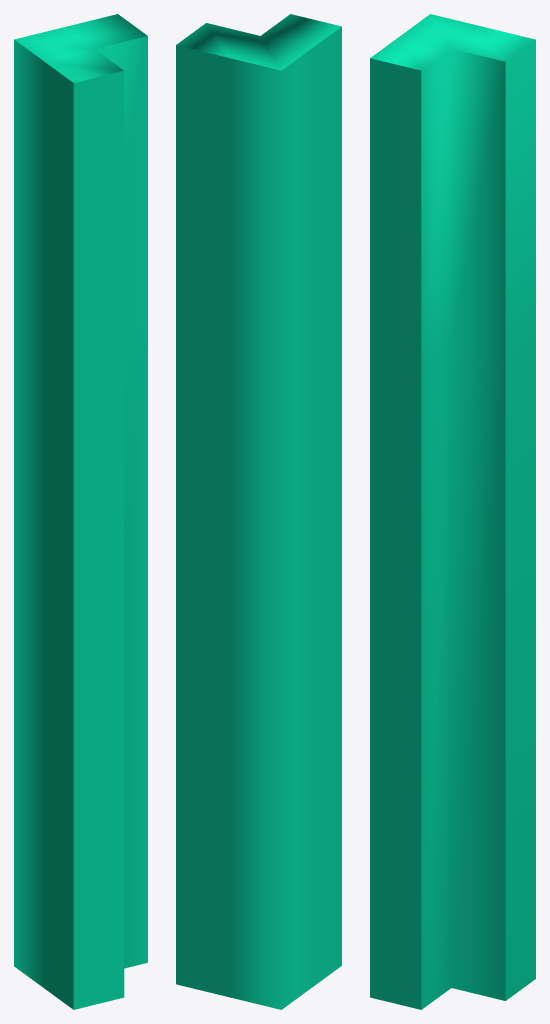
Rendered from Shop_Pillar_Wall_01.fbx.
The picture shows the model from 3 angles, left to right: view 1: azimuth 30°, elevation 25°; view 2: azimuth 150°, elevation 25°; view 3: azimuth 330°, elevation 25°; orthographic projection.
Parts seen in each view (by area): view 1: Shop_Pillar_Wall_01; view 2: Shop_Pillar_Wall_01; view 3: Shop_Pillar_Wall_01.
Boxes of the visible parts, <box> form: Shop_Pillar_Wall_01: <box>14,14,147,1009</box>; Shop_Pillar_Wall_01: <box>176,14,341,1009</box>; Shop_Pillar_Wall_01: <box>370,14,535,1009</box>.
Bounding box in the file's own units: 51.27 × 436 × 51.
